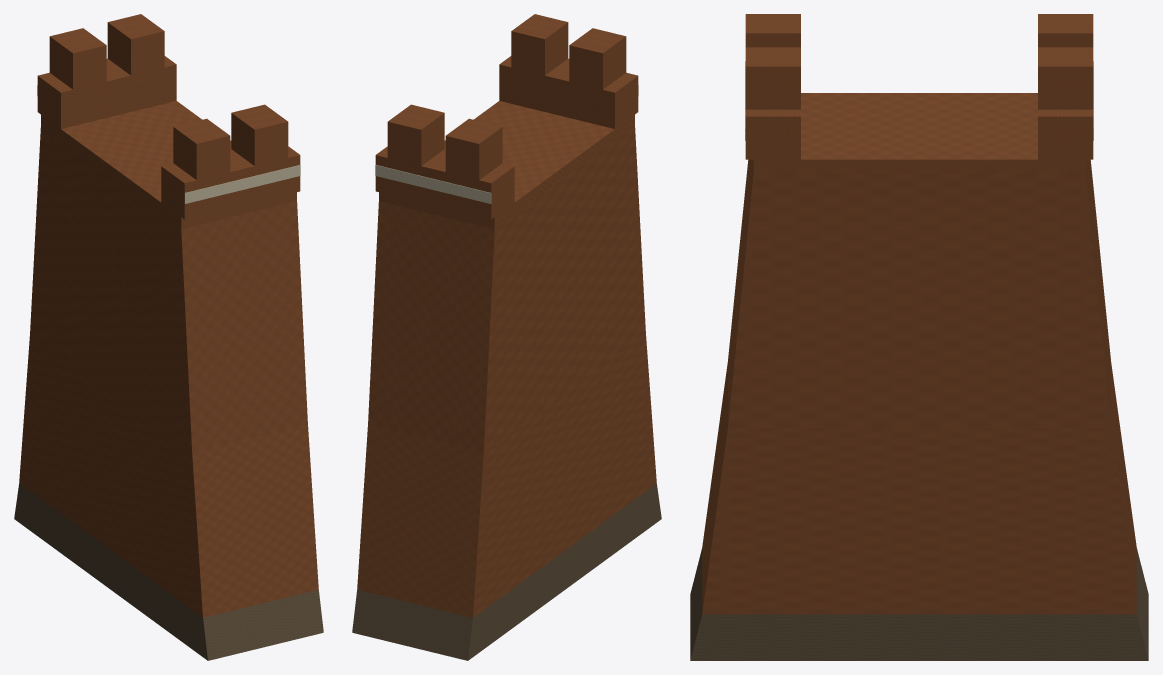
Rendered from Berber_Wall_Age2_gap_2m.fbx.
The picture shows the model from 3 angles, left to right: view 1: azimuth 30°, elevation 25°; view 2: azimuth 150°, elevation 25°; view 3: azimuth 270°, elevation 25°; orthographic projection. The views are drawn at different scales.
Visible parts, largest first — view 1: gap_2m_rammed_curtain_upper, gap_2m_rammed_curtain_lower, gap_2m_battered_stone_foot, gap_2m_walk_deck, gap_2m_parapet.001, gap_2m_parapet, gap_2m_merlon.002, gap_2m_merlon.003, gap_2m_merlon, gap_2m_merlon.001, gap_2m_owner_painted_band; view 2: gap_2m_rammed_curtain_upper, gap_2m_rammed_curtain_lower, gap_2m_battered_stone_foot, gap_2m_walk_deck, gap_2m_parapet, gap_2m_parapet.001, gap_2m_merlon, gap_2m_merlon.001, gap_2m_merlon.002, gap_2m_merlon.003, gap_2m_owner_painted_band.001; view 3: gap_2m_rammed_curtain_upper, gap_2m_rammed_curtain_lower, gap_2m_battered_stone_foot, gap_2m_walk_deck, gap_2m_merlon.001, gap_2m_merlon.003, gap_2m_parapet, gap_2m_parapet.001, gap_2m_merlon, gap_2m_merlon.002.
Part boxes in pixels (x1,y1,x2,y2): gap_2m_rammed_curtain_upper: (30,127,307,452); gap_2m_rammed_curtain_lower: (19,334,318,617); gap_2m_battered_stone_foot: (14,483,323,660); gap_2m_walk_deck: (41,101,296,229); gap_2m_parapet.001: (37,56,176,128); gap_2m_parapet: (161,146,300,219); gap_2m_merlon.002: (49,28,106,89); gap_2m_merlon.003: (107,14,164,75); gap_2m_merlon: (173,118,230,180); gap_2m_merlon.001: (231,104,288,165); gap_2m_owner_painted_band: (184,164,300,203); gap_2m_rammed_curtain_upper: (368,127,645,452); gap_2m_rammed_curtain_lower: (357,334,656,617); gap_2m_battered_stone_foot: (352,483,661,660); gap_2m_walk_deck: (379,101,634,229); gap_2m_parapet: (499,56,638,128); gap_2m_parapet.001: (375,146,514,219); gap_2m_merlon: (569,28,626,89); gap_2m_merlon.001: (511,14,568,75); gap_2m_merlon.002: (445,118,502,180); gap_2m_merlon.003: (387,104,444,165); gap_2m_owner_painted_band.001: (375,164,491,203); gap_2m_rammed_curtain_upper: (728,159,1110,428); gap_2m_rammed_curtain_lower: (702,362,1136,614); gap_2m_battered_stone_foot: (690,548,1148,660); gap_2m_walk_deck: (753,93,1085,173); gap_2m_merlon.001: (745,47,800,109); gap_2m_merlon.003: (1038,47,1093,109); gap_2m_parapet: (745,109,800,159); gap_2m_parapet.001: (1038,109,1093,159); gap_2m_merlon: (745,14,800,47); gap_2m_merlon.002: (1038,14,1093,47).
Bounding box in the file's own units: 200 × 820 × 580.
3 materials, 3 textured.
